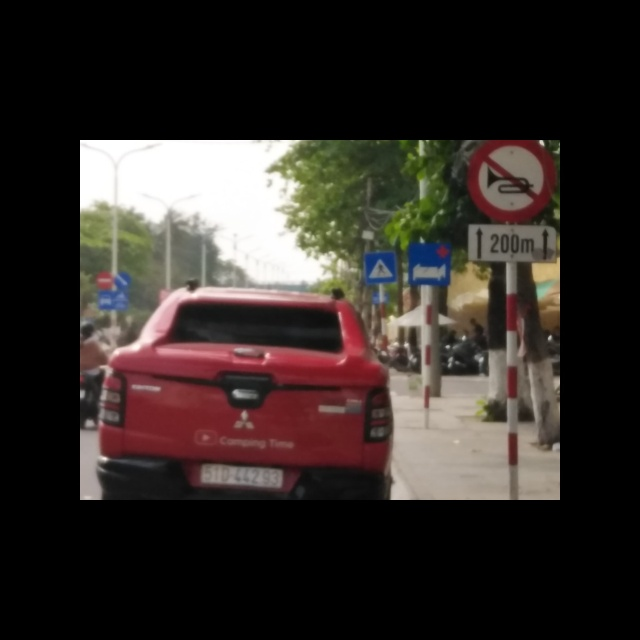Bệnh viện: (410, 242, 450, 288)
Cấm bấm còi: (468, 140, 555, 221)
Đường dành cho người đi bộ: (364, 253, 398, 285)
